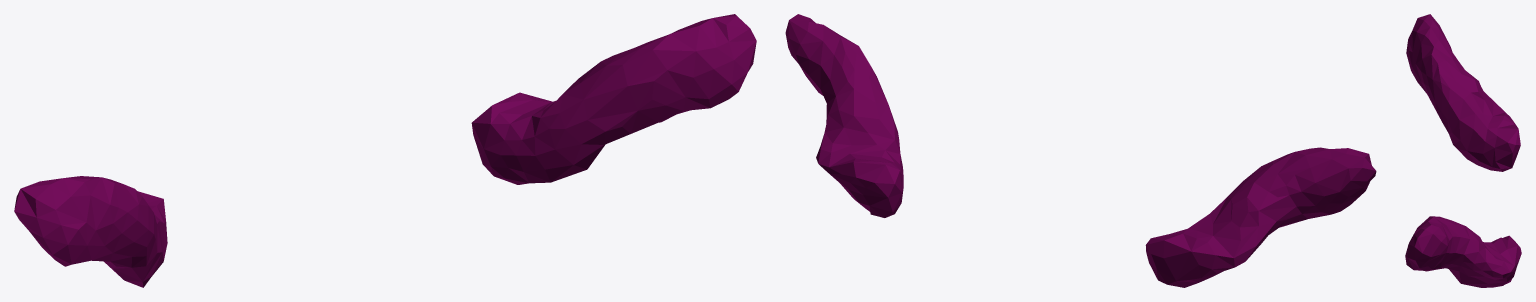
The model's file is 106-EOl-entorhinal Cx, olfactory part-('0.4980', '0.0000', '0.3804').obj.
3 renders of one model, left to right at view 1: azimuth 30°, elevation 25°; view 2: azimuth 150°, elevation 25°; view 3: azimuth 270°, elevation 25°, orthographic. The views are drawn at different scales.
Bounding box in the file's own units: 151 × 32.83 × 33.03.
